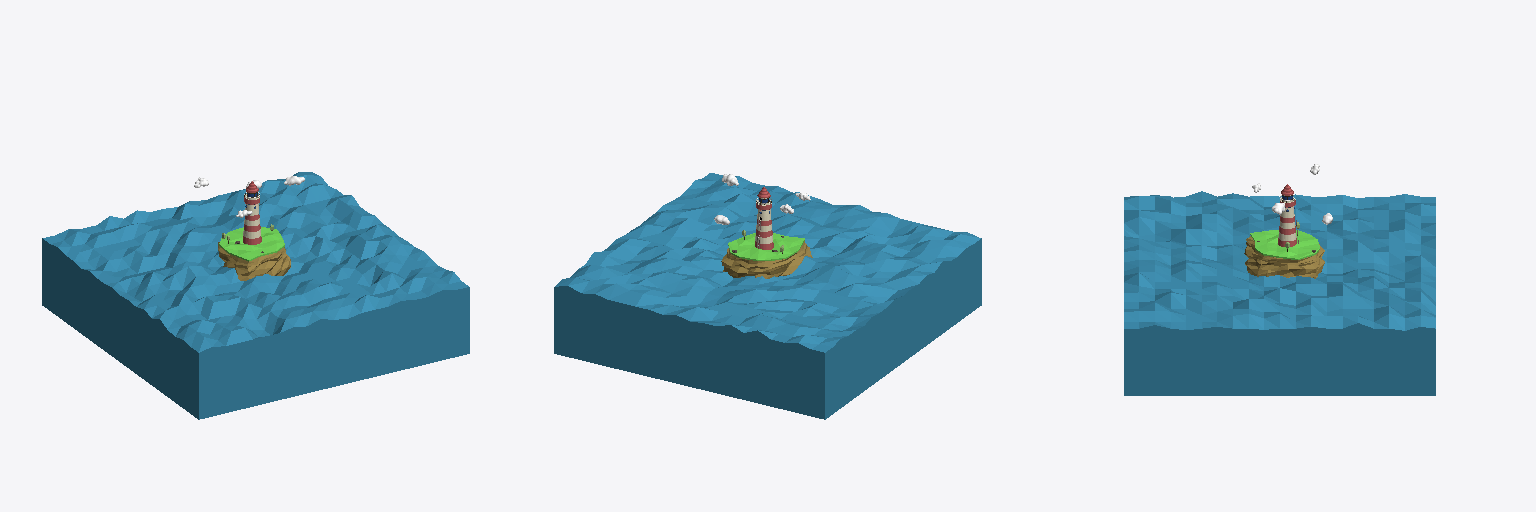
Rendered from light house final.obj.
3 renders of one model, left to right at view 1: azimuth 30°, elevation 25°; view 2: azimuth 150°, elevation 25°; view 3: azimuth 270°, elevation 25°, orthographic.
Visible parts, largest first — view 1: 海, 島, 柱體; view 2: 海, 島, 柱體; view 3: 海, 島, 柱體.
Part boxes in pixels (bbox=[...]): 海: bbox=[42, 172, 469, 419]; 島: bbox=[218, 227, 290, 280]; 柱體: bbox=[243, 194, 261, 244]; 海: bbox=[554, 173, 981, 419]; 島: bbox=[721, 233, 812, 278]; 柱體: bbox=[755, 200, 773, 249]; 海: bbox=[1124, 191, 1435, 395]; 島: bbox=[1244, 230, 1324, 278]; 柱體: bbox=[1278, 197, 1296, 246].
Size of the model in its own units: 59917 by 31166 by 59917.